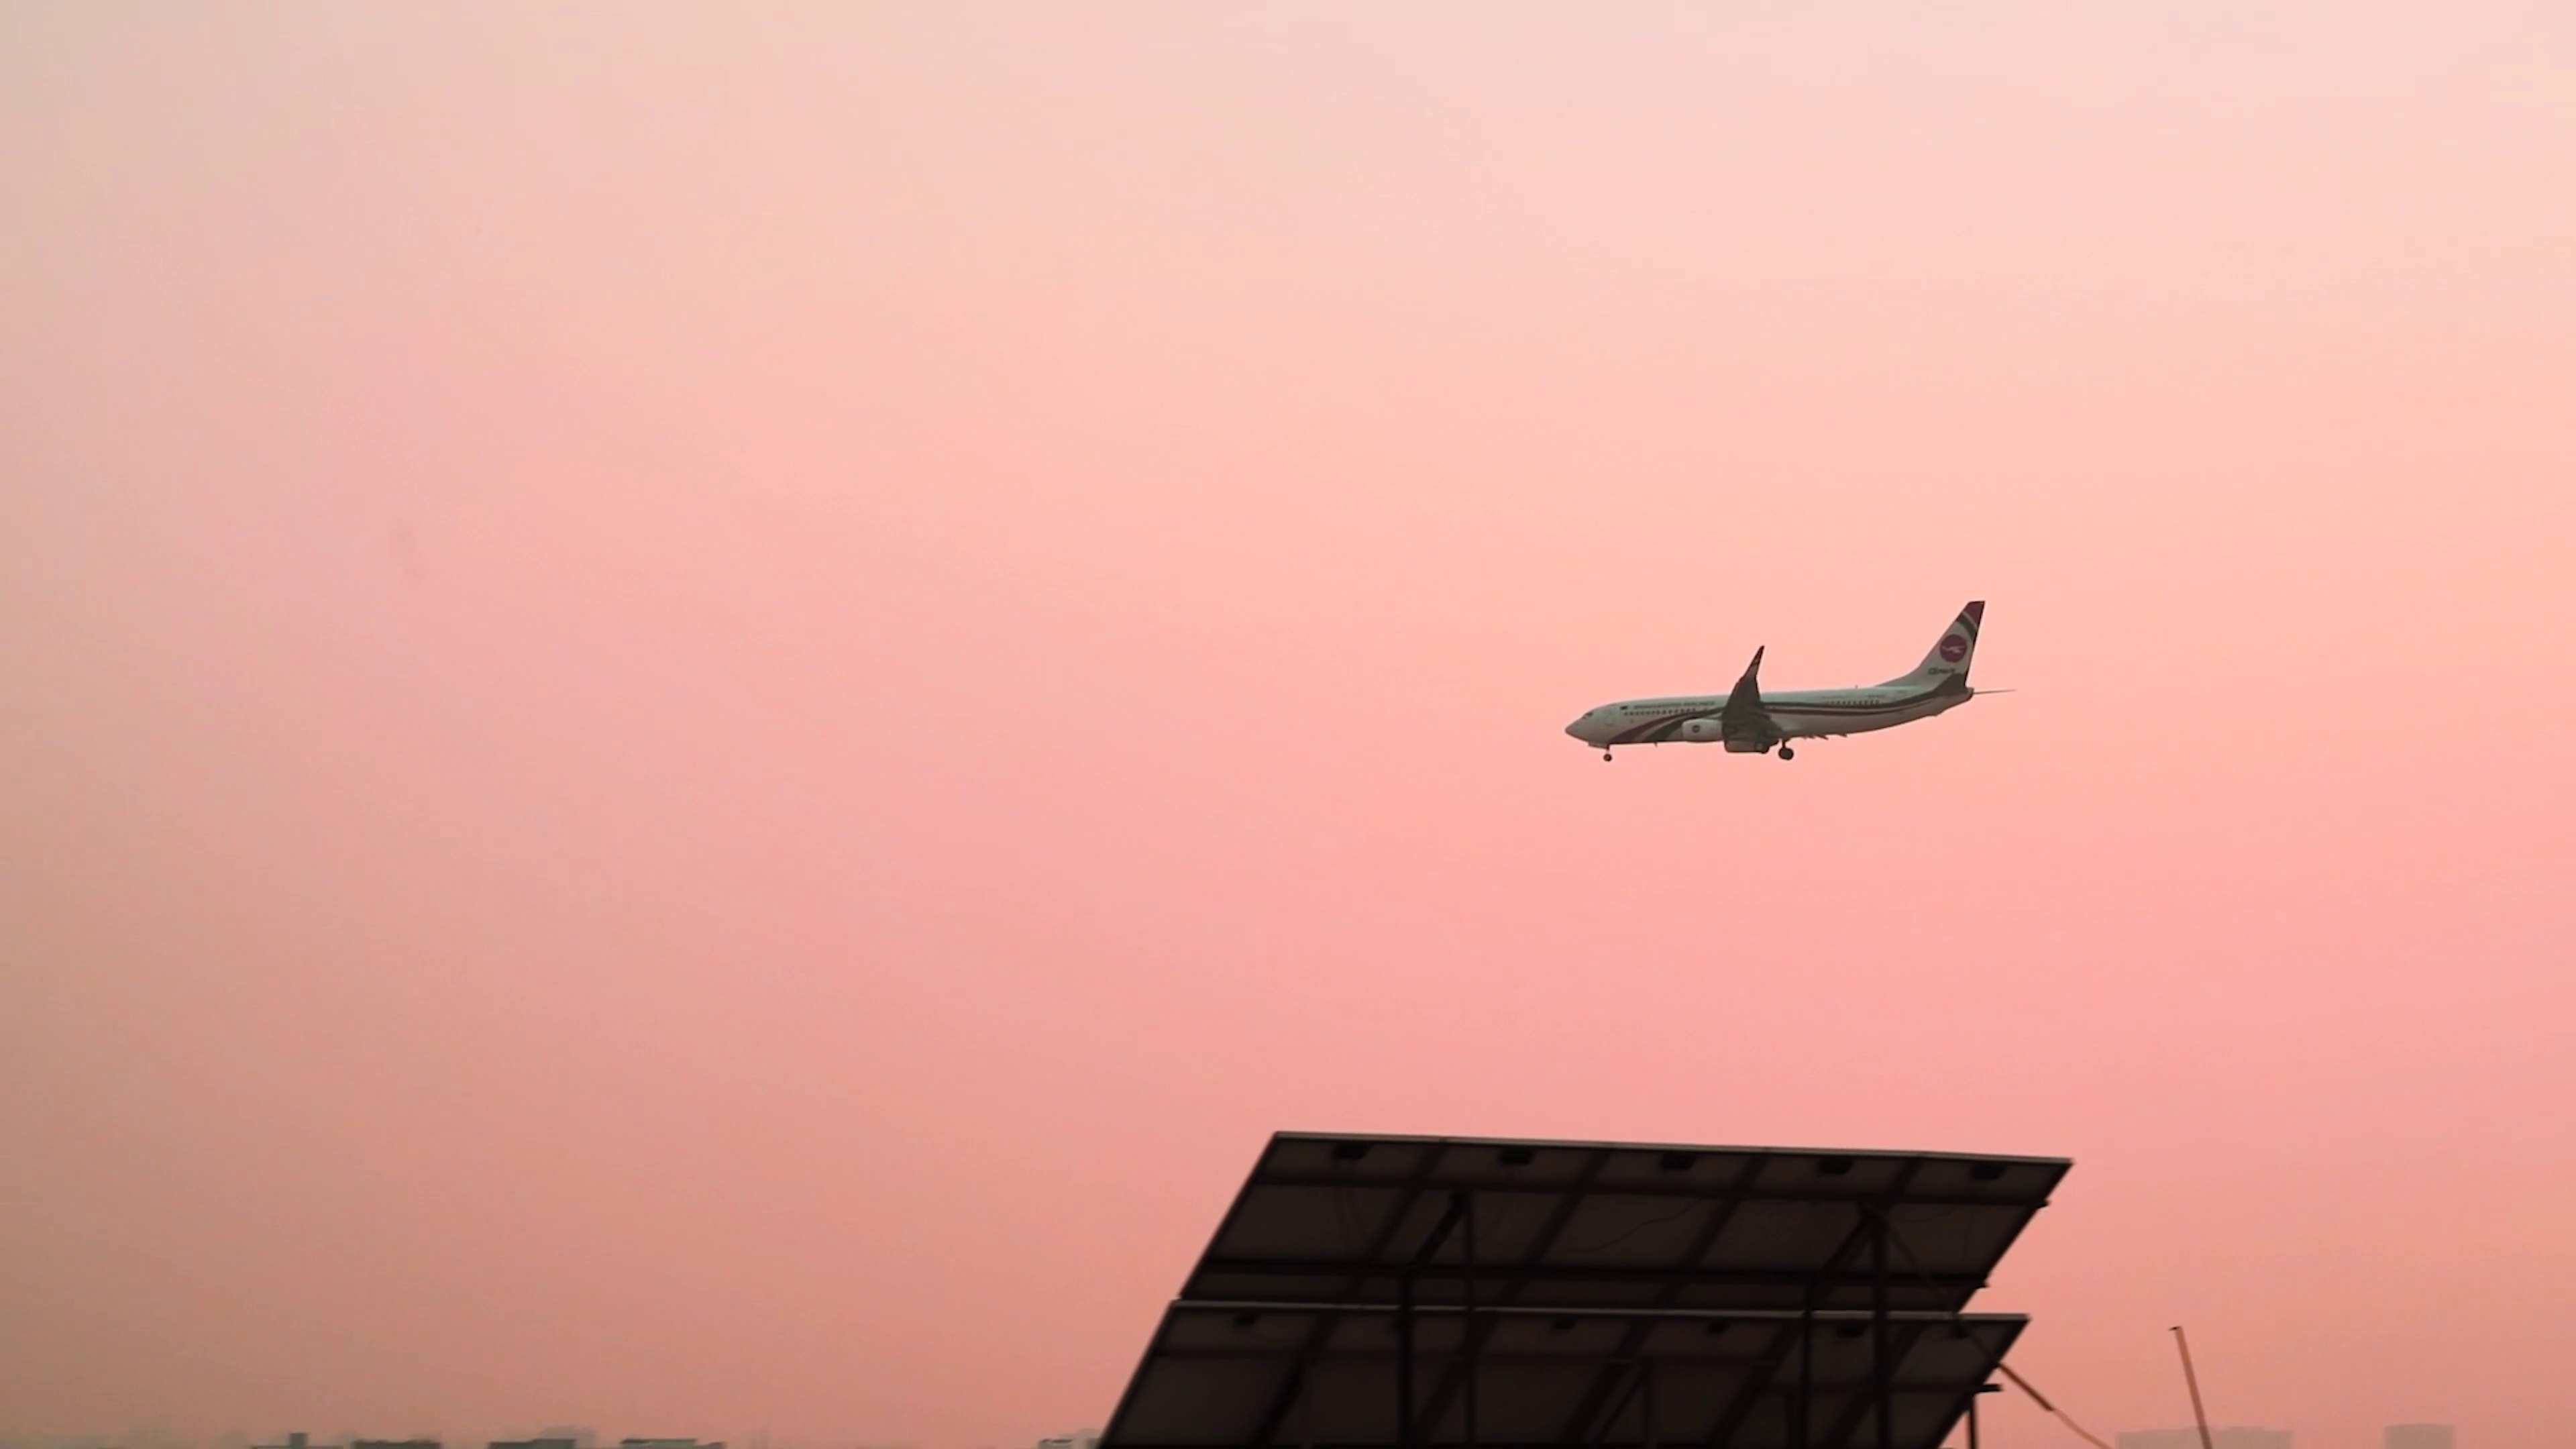plane: (1559, 600, 2015, 761)
